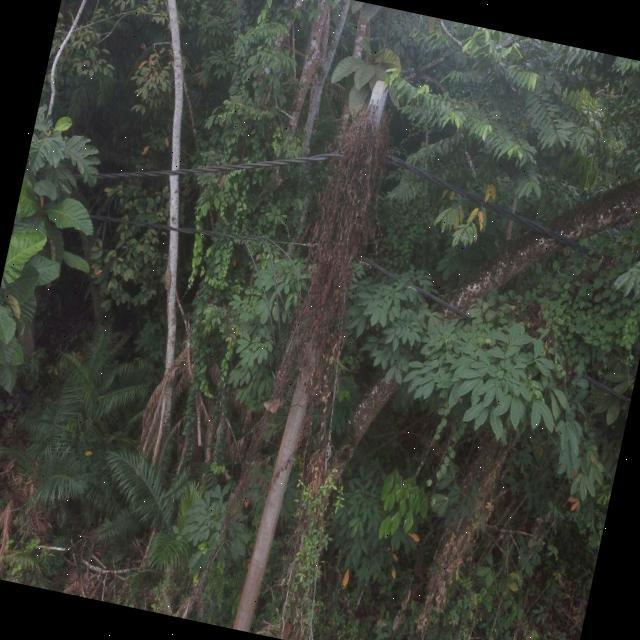critical vegetation: (218, 93, 425, 638)
